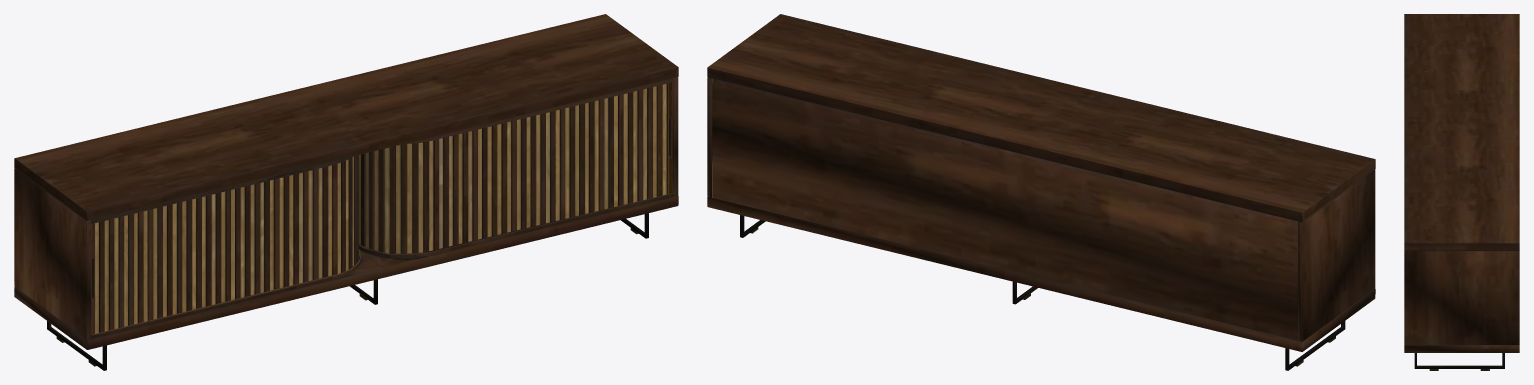
The model's file is modern_wooden_cabinet.glb.
3 renders of one model, left to right at view 1: azimuth 30°, elevation 25°; view 2: azimuth 150°, elevation 25°; view 3: azimuth 270°, elevation 25°, orthographic. The views are drawn at different scales.
Visible parts, largest first — view 1: modern_wooden_cabinet_body, modern_wooden_cabinet_door_r, modern_wooden_cabinet_door_l; view 2: modern_wooden_cabinet_body; view 3: modern_wooden_cabinet_body.
Boxes of the visible parts, x1,y1,x2,y2 form: modern_wooden_cabinet_body: (14,14,678,370); modern_wooden_cabinet_door_r: (359,82,672,256); modern_wooden_cabinet_door_l: (91,155,358,334); modern_wooden_cabinet_body: (707,14,1375,370); modern_wooden_cabinet_body: (1404,14,1519,370).
Bounding box in the file's own units: 2.44 × 0.6801 × 0.52.
1 material, 1 textured.
